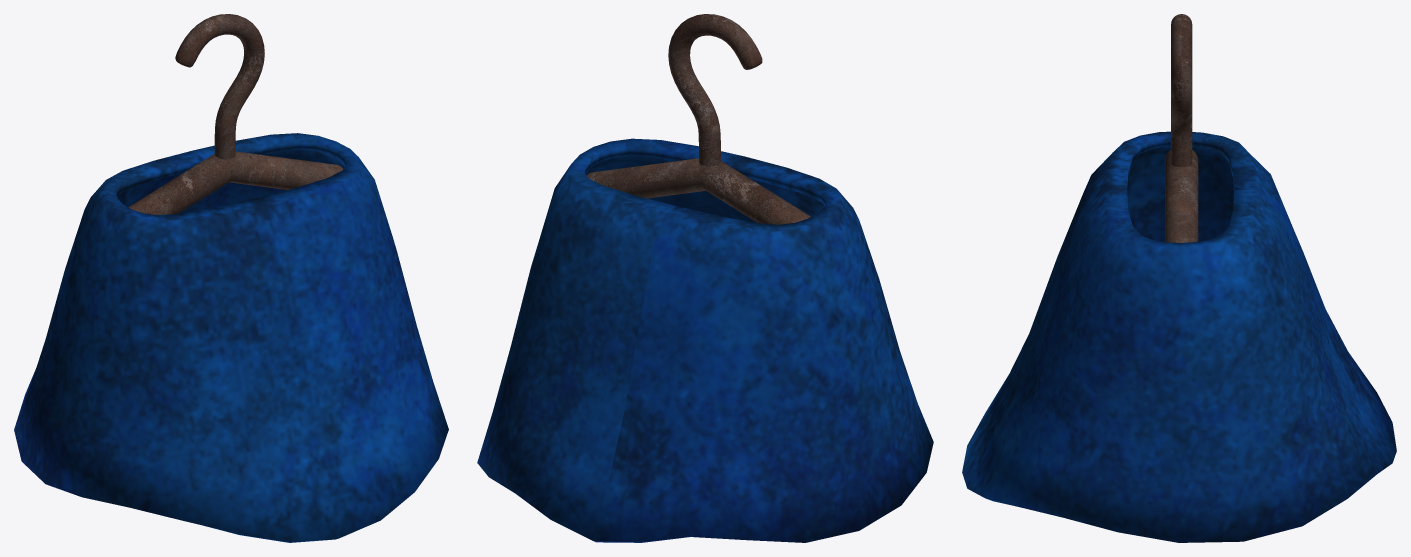
File: Hanging School Skirt.fbx
The picture shows the model from 3 angles, left to right: view 1: azimuth 30°, elevation 25°; view 2: azimuth 150°, elevation 25°; view 3: azimuth 270°, elevation 25°; orthographic projection. The views are drawn at different scales.
Parts seen in each view (by area): view 1: Student.002, Plane.001; view 2: Student.002, Plane.001; view 3: Student.002, Plane.001.
Part boxes in pixels (left/top/right/bottom): Student.002: left=14, top=133, right=448, bottom=542; Plane.001: left=128, top=14, right=342, bottom=214; Student.002: left=477, top=138, right=933, bottom=542; Plane.001: left=587, top=14, right=810, bottom=224; Student.002: left=962, top=131, right=1396, bottom=542; Plane.001: left=1165, top=14, right=1198, bottom=242.
Size of the model in its own units: 59.17 by 68.15 by 59.41.
2 materials, 2 textured.
